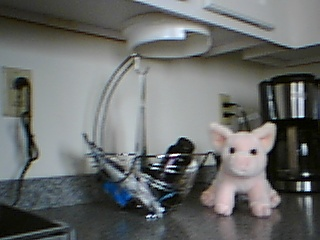piggy: (199, 121, 282, 218)
